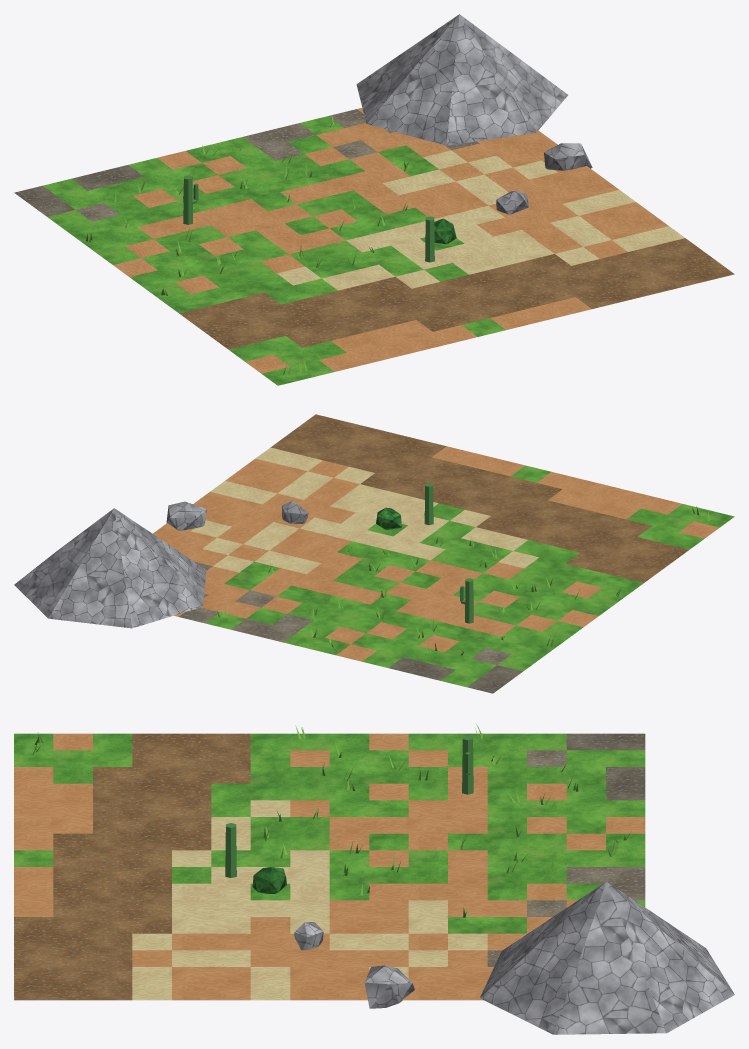
Rendered from chunk_8_20.glb.
3 renders of one model, top to bottom at view 1: azimuth 30°, elevation 25°; view 2: azimuth 150°, elevation 25°; view 3: azimuth 270°, elevation 25°, orthographic. The views are drawn at different scales.
Visible parts, largest first — view 1: chunk_8_20; view 2: chunk_8_20; view 3: chunk_8_20.
Part boxes in pixels (x1=…): chunk_8_20: x1=14, y1=14, x2=734, y2=385; chunk_8_20: x1=14, y1=414, x2=734, y2=693; chunk_8_20: x1=14, y1=724, x2=734, y2=1034.
Size of the model in its own units: 18.06 by 3.35 by 18.27.
10 materials, 8 textured.
